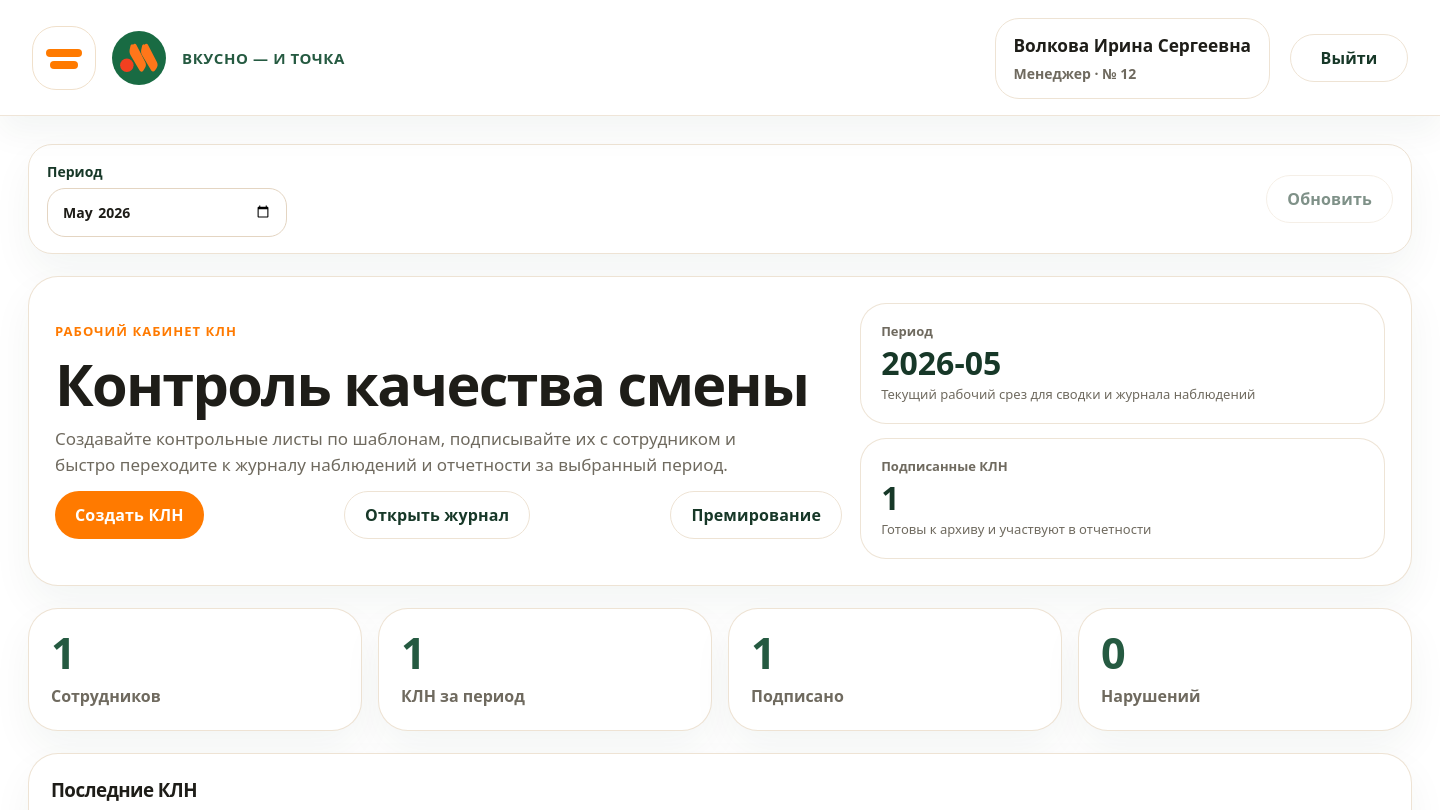
Test case: App.vue › hides signature controls for already signed observations but keeps archive action
Click the button with class "menu-toggle": [64, 58] box [32,26,96,90]
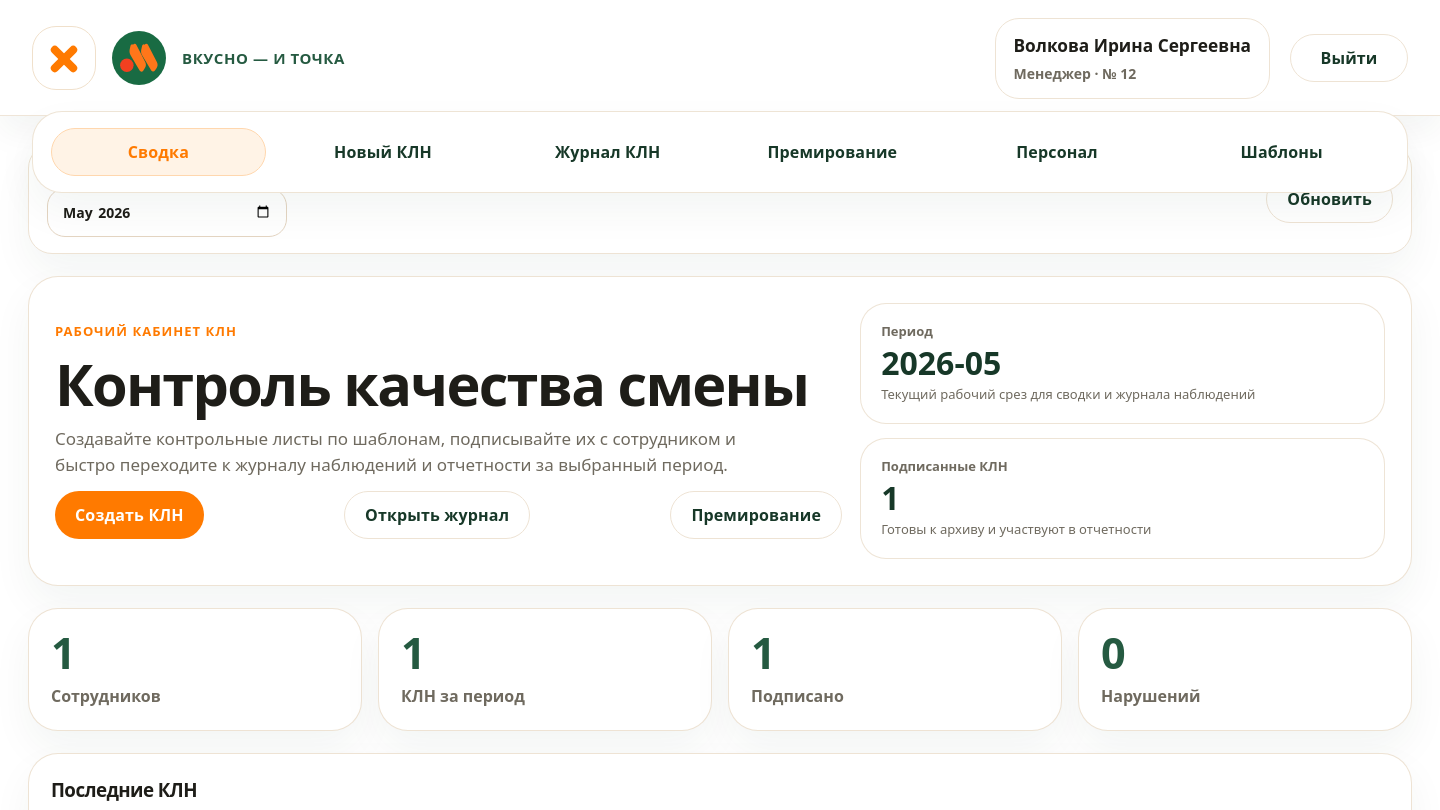
Click the button "Журнал КЛН": [608, 152] box [500,128,715,176]
(page scrolled)
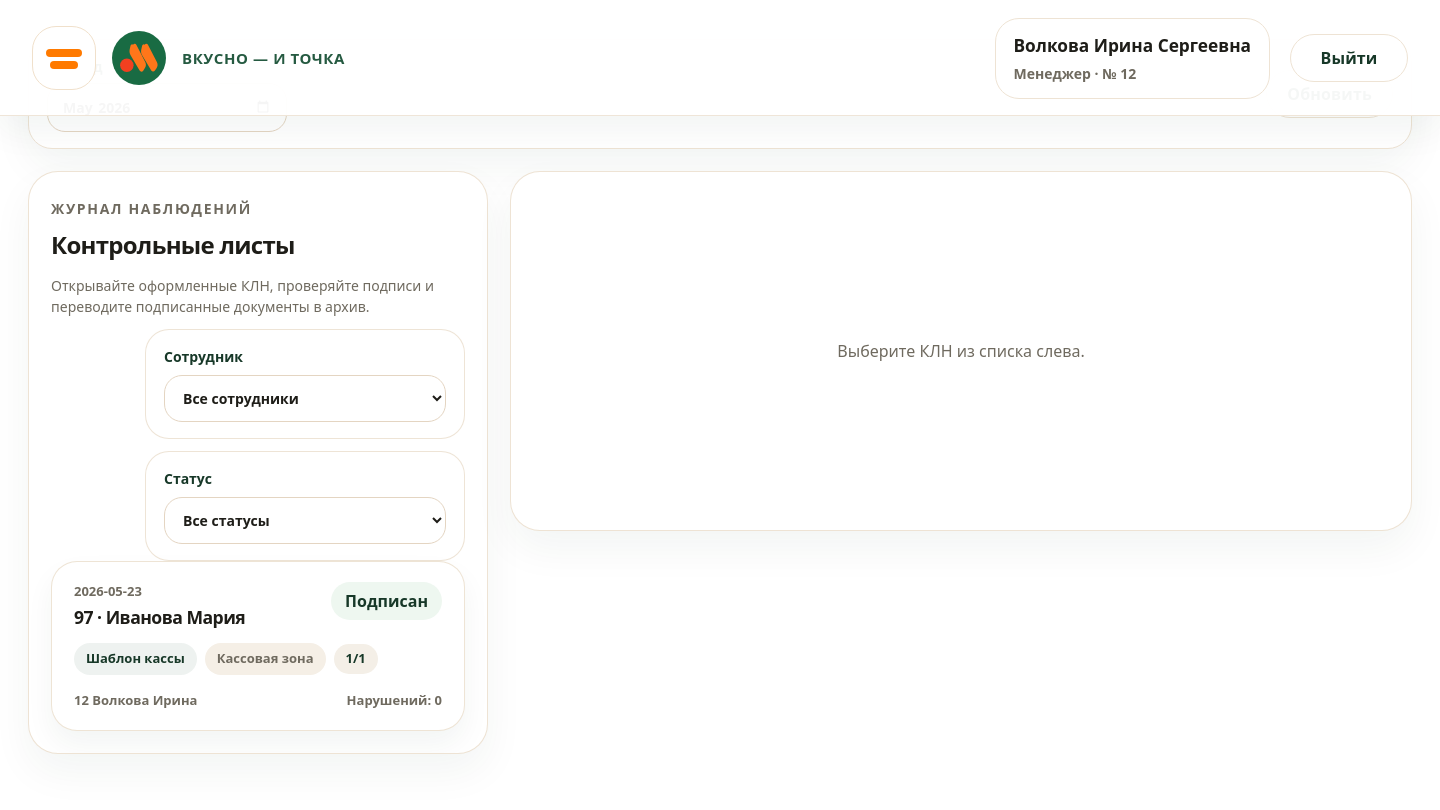
Click the element with class "observation-card": [258, 646] box [51,561,465,731]
(page scrolled)
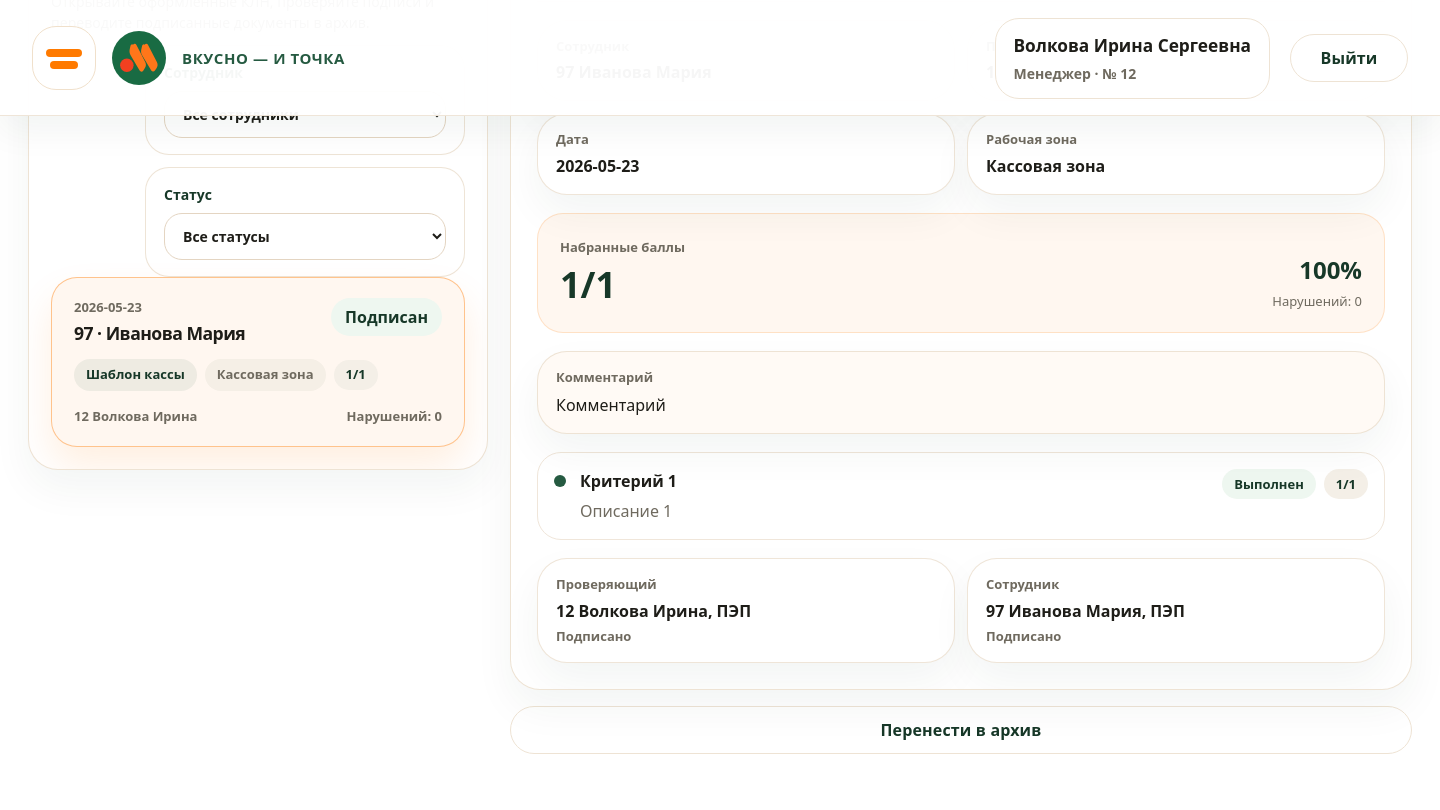
Check: the button "Перенести в архив" is enabled, box [510,706,1412,754]
